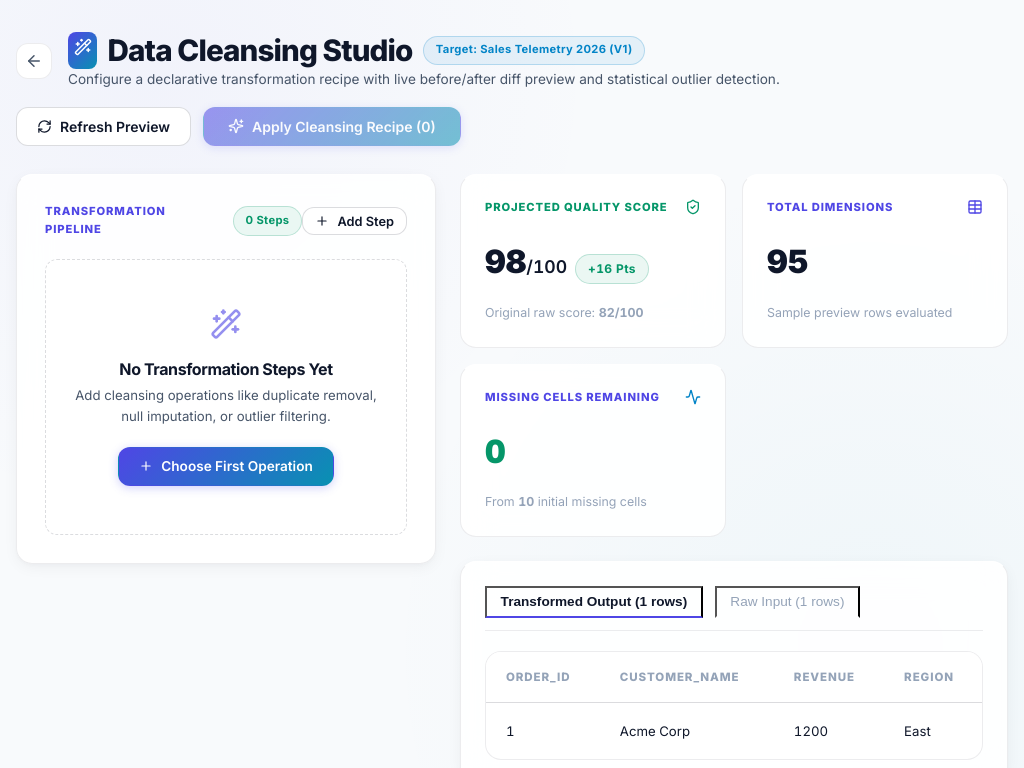
Test: CleansingStudioPage Component (Tasks 5.6 & 5.7) › adds an operation from picker modal to the transformation recipe
Note: Open Picker Modal
Click the button with test id "add-step-btn" at (355, 221), box [302,207,407,235]
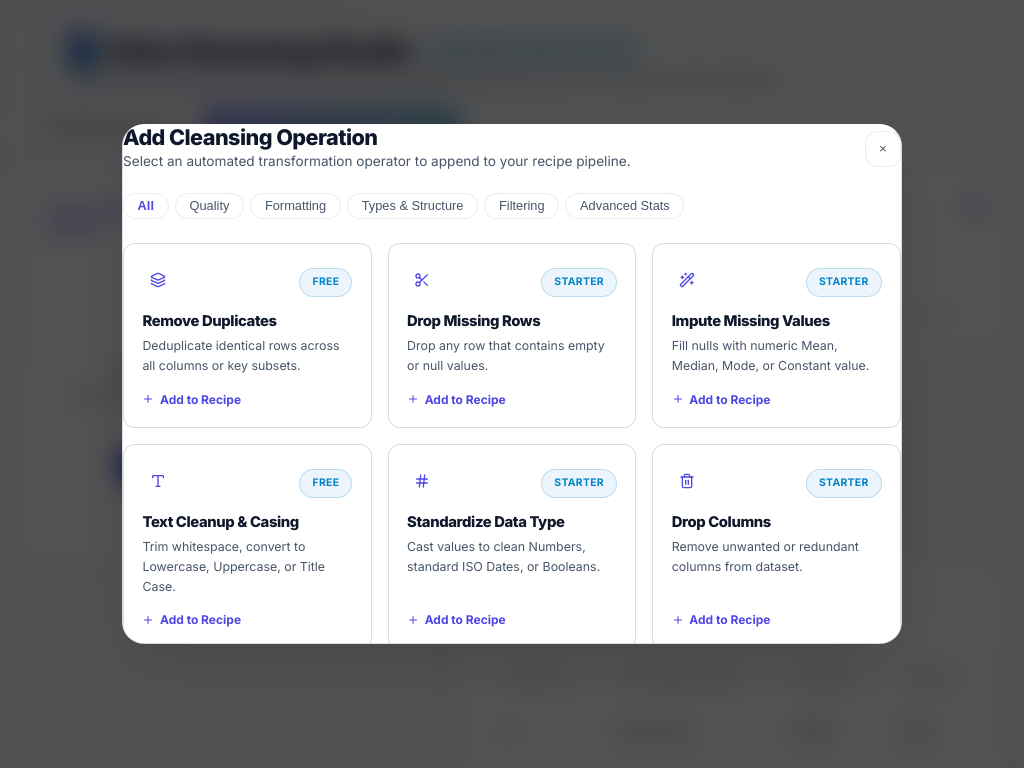
Now the heading "Add Cleansing Operation" is shown, box [123,124,378,150]
Note: Select Remove Duplicates
Click the element with test id "select-op-remove_duplicates" at (247, 336), box [123,243,372,428]
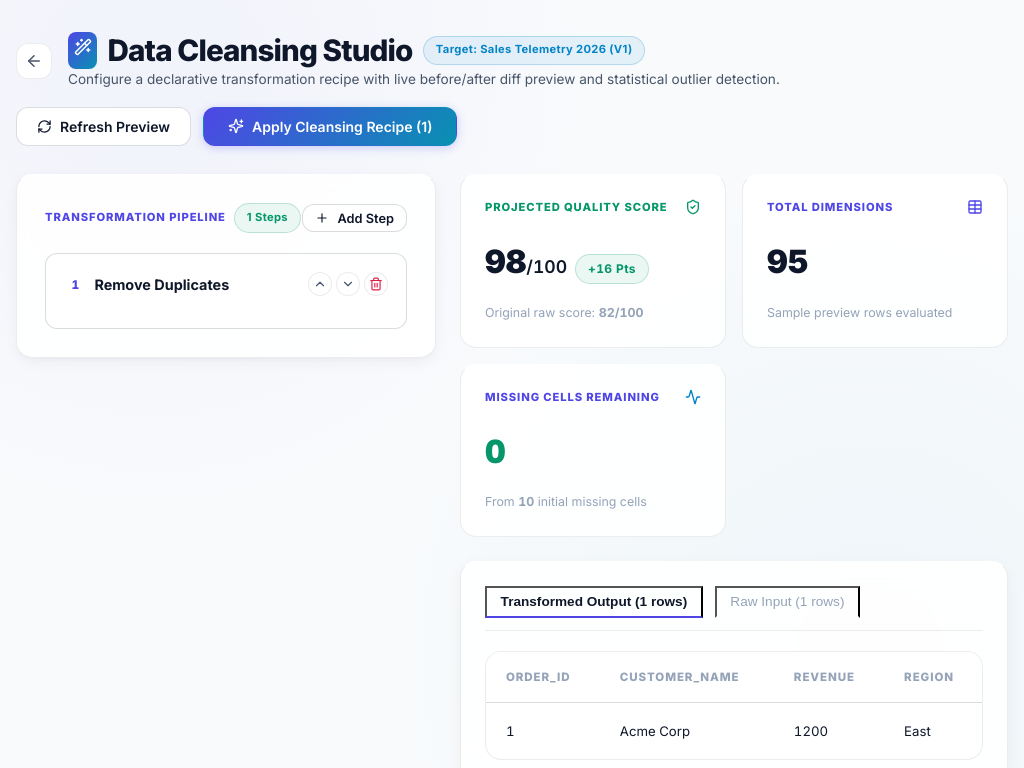
Now the text "Remove Duplicates" is shown, box [94,273,229,296]
Now the element with test id "recipe-step-0" is shown, box [45,253,407,329]
